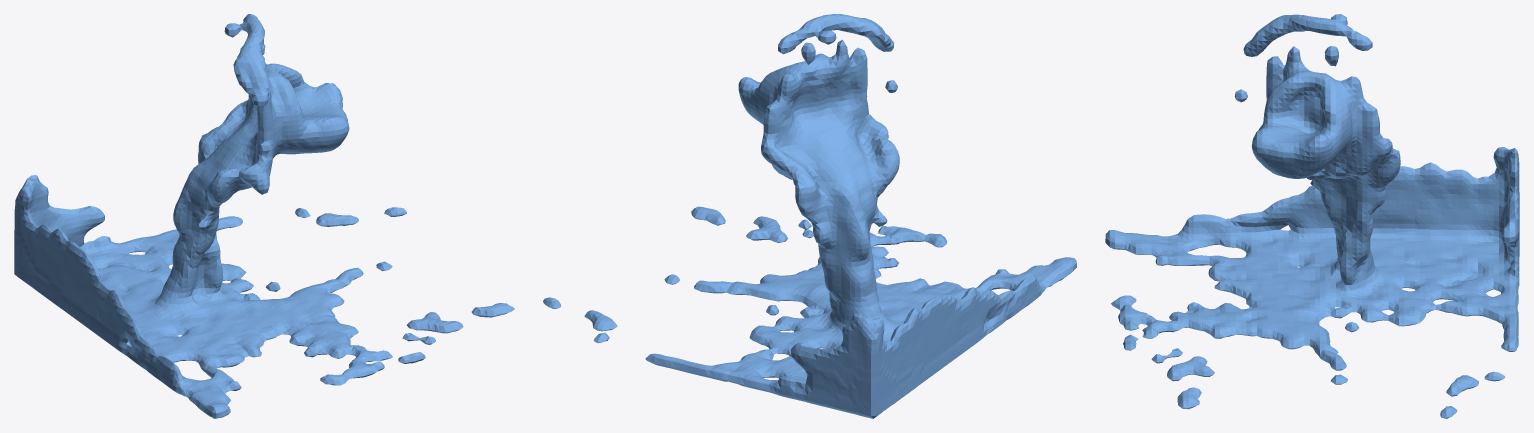
The model's file is water_0046.glb.
3 views of the same model, side by side, from view 1: azimuth 30°, elevation 25°; view 2: azimuth 150°, elevation 25°; view 3: azimuth 270°, elevation 25° (orthographic). The views are drawn at different scales.
Parts seen in each view (by area): view 1: Water_0046; view 2: Water_0046; view 3: Water_0046.
Boxes of the visible parts, x1,y1,x2,y2 form: Water_0046: (14, 14, 514, 418); Water_0046: (543, 14, 1076, 418); Water_0046: (1105, 14, 1519, 418).
Size of the model in its own units: 4.75 by 3.64 by 4.59.
